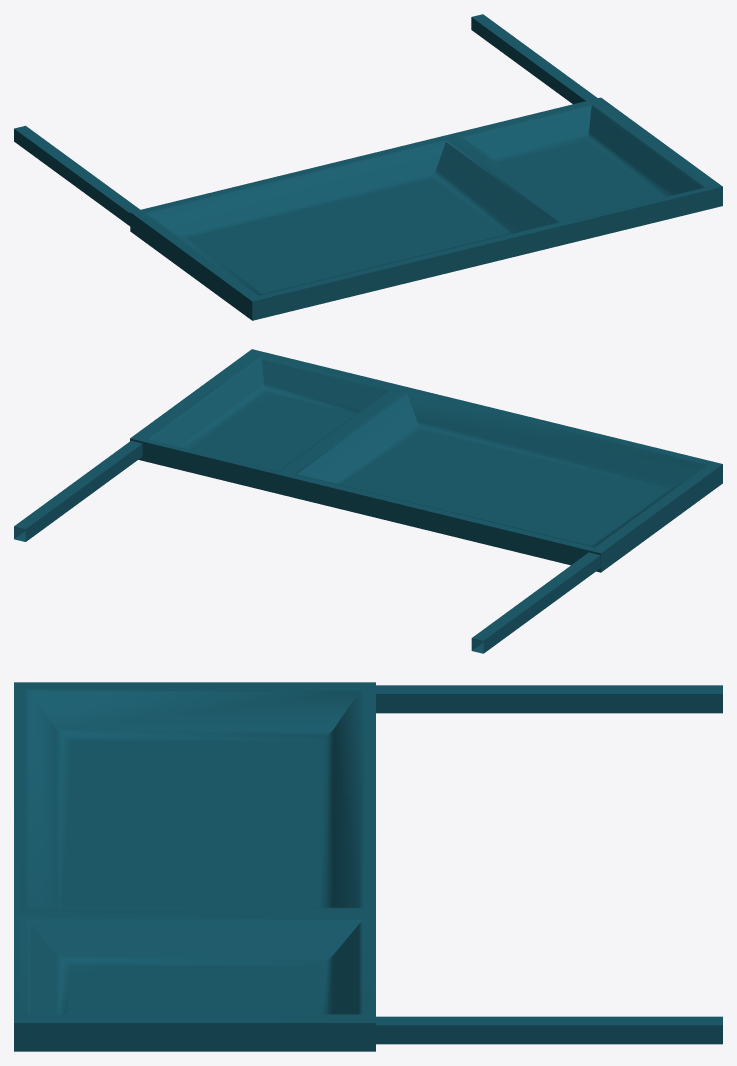
Rendered from organes_bac_bas.fbx.
3 views of the same model, one above another, from view 1: azimuth 30°, elevation 25°; view 2: azimuth 150°, elevation 25°; view 3: azimuth 270°, elevation 25° (orthographic). The views are drawn at different scales.
Visible parts, largest first — view 1: organes_bac_bas; view 2: organes_bac_bas; view 3: organes_bac_bas.
Boxes of the visible parts, <box> form: organes_bac_bas: <box>14,14,722,320</box>; organes_bac_bas: <box>14,349,722,653</box>; organes_bac_bas: <box>14,682,722,1051</box>.
Bounding box in the file's own units: 2.88 × 0.1235 × 2.53.
